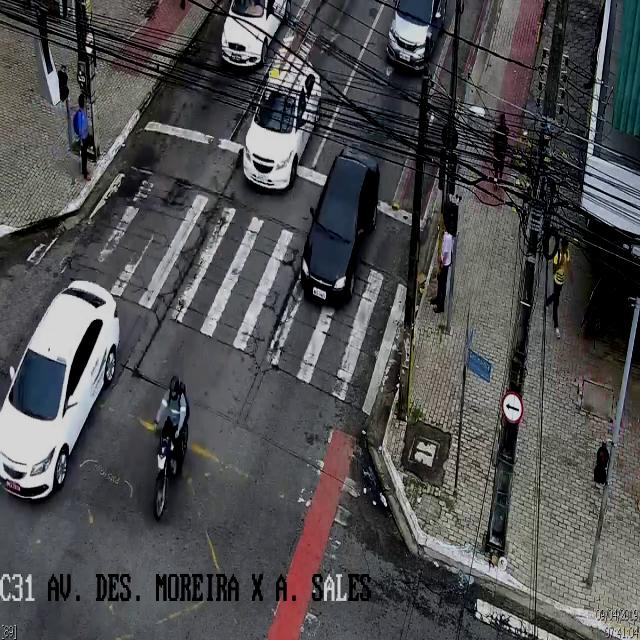Car: (0, 280, 120, 495), (300, 142, 382, 306), (244, 59, 321, 192), (221, 1, 289, 67), (386, 1, 446, 73)
Motorcycle: (152, 374, 190, 518)
